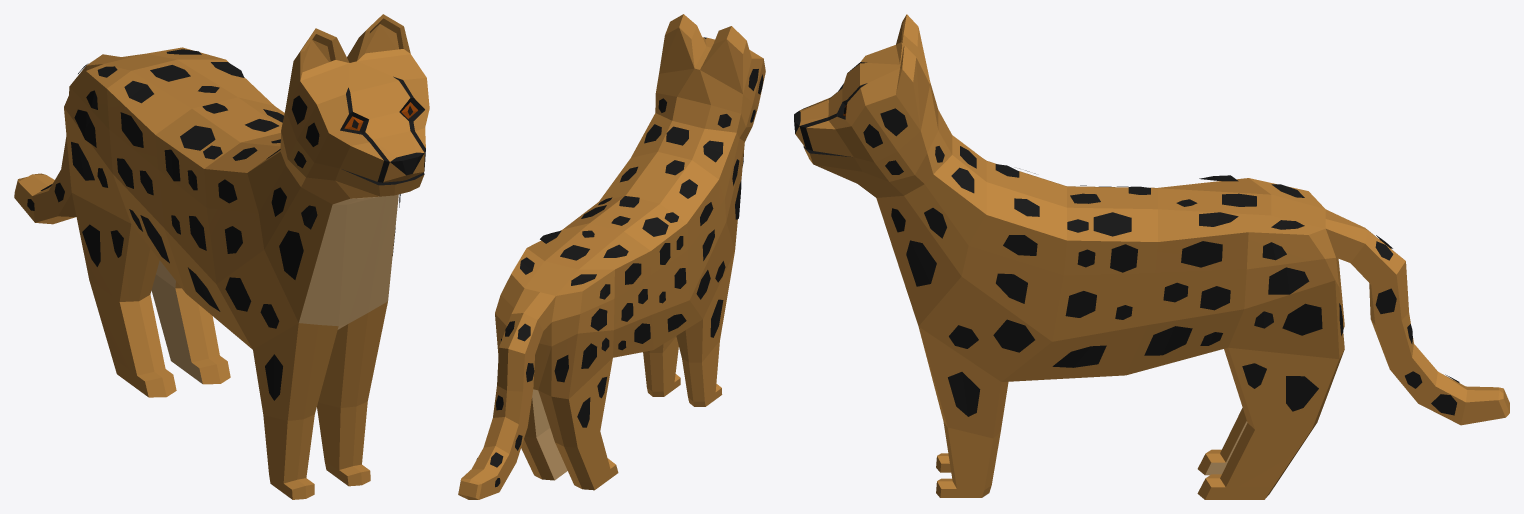
The model's file is Cheetah_01.fbx.
The picture shows the model from 3 angles, left to right: view 1: azimuth 30°, elevation 25°; view 2: azimuth 150°, elevation 25°; view 3: azimuth 270°, elevation 25°; orthographic projection. The views are drawn at different scales.
Parts seen in each view (by area): view 1: Cheetah_01; view 2: Cheetah_01; view 3: Cheetah_01.
Boxes of the visible parts, left/top/right/bottom form: Cheetah_01: left=14, top=14, right=429, bottom=499; Cheetah_01: left=458, top=14, right=765, bottom=499; Cheetah_01: left=794, top=14, right=1509, bottom=499.
Size of the model in its own units: 3.08 by 11.59 by 16.63.
